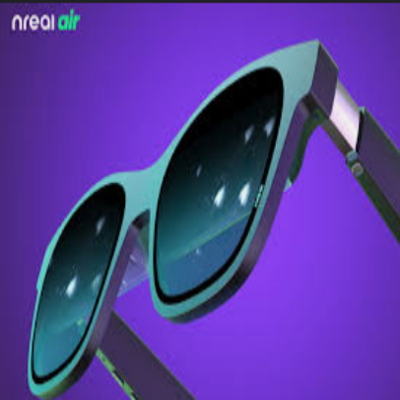glasses: (20, 35, 400, 391)
